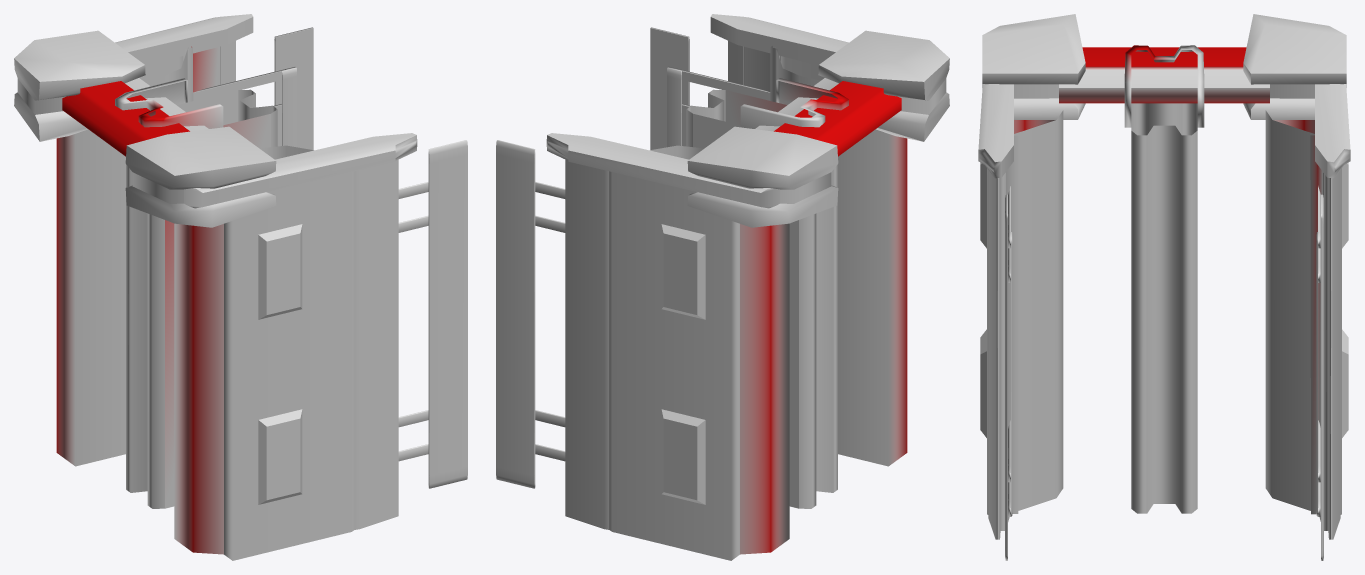
File: midliftmk3.fbx
3 views of the same model, side by side, from view 1: azimuth 30°, elevation 25°; view 2: azimuth 150°, elevation 25°; view 3: azimuth 270°, elevation 25° (orthographic). The views are drawn at different scales.
Parts seen in each view (by area): view 1: ConveyorLiftMid_Mk3_static_LOD0; view 2: ConveyorLiftMid_Mk3_static_LOD0; view 3: ConveyorLiftMid_Mk3_static_LOD0.
Boxes of the visible parts, x1,y1,x2,y2 form: ConveyorLiftMid_Mk3_static_LOD0: (14,14,467,560); ConveyorLiftMid_Mk3_static_LOD0: (496,14,949,560); ConveyorLiftMid_Mk3_static_LOD0: (978,14,1350,560).
Size of the model in its own units: 174 by 220 by 178.
